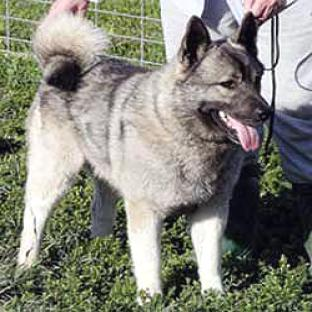Animal: (19, 11, 270, 295)
